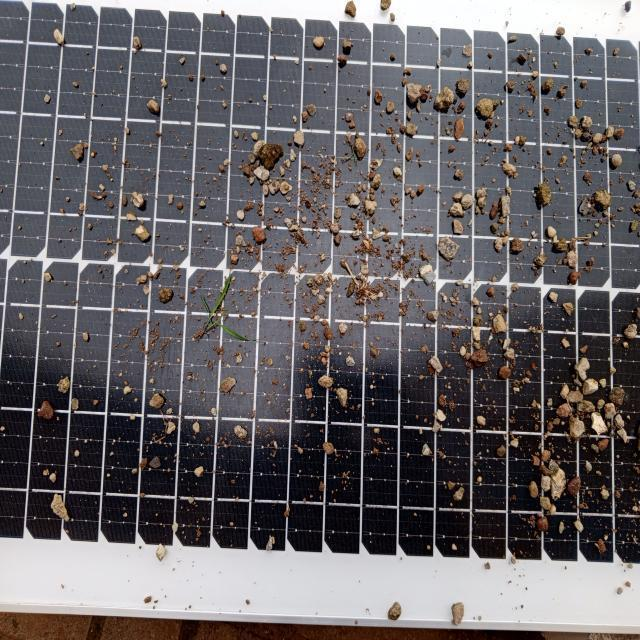Anomaly Solar Panel: (0, 4, 638, 587)
Surface Contaminant: (0, 4, 638, 587)
